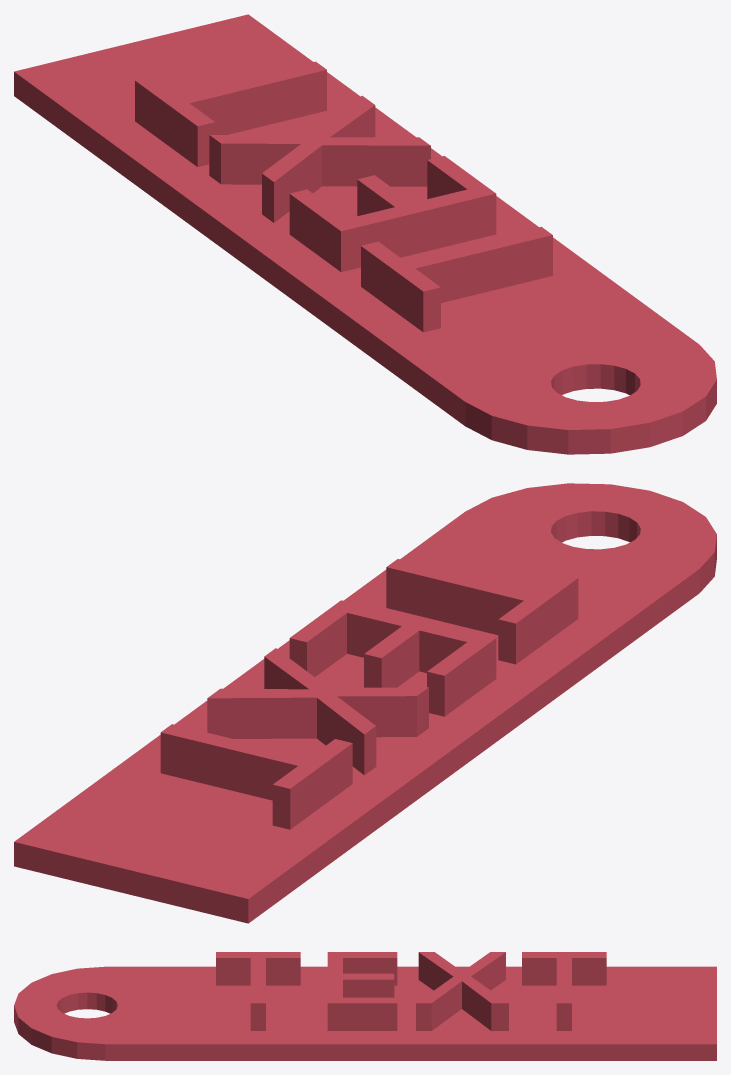
Rendered from asset.glb.
The picture shows the model from 3 angles, top to bottom: view 1: azimuth 30°, elevation 25°; view 2: azimuth 150°, elevation 25°; view 3: azimuth 270°, elevation 25°; orthographic projection. The views are drawn at different scales.
Visible parts, largest first — view 1: Mesh_Mesh_head_geo.001_lambert2SG.001; view 2: Mesh_Mesh_head_geo.001_lambert2SG.001; view 3: Mesh_Mesh_head_geo.001_lambert2SG.001.
Part boxes in pixels (<box>): Mesh_Mesh_head_geo.001_lambert2SG.001: <box>14,14,716,454</box>; Mesh_Mesh_head_geo.001_lambert2SG.001: <box>14,483,716,923</box>; Mesh_Mesh_head_geo.001_lambert2SG.001: <box>14,952,716,1060</box>.
Size of the model in its own units: 30 by 8 by 115.
